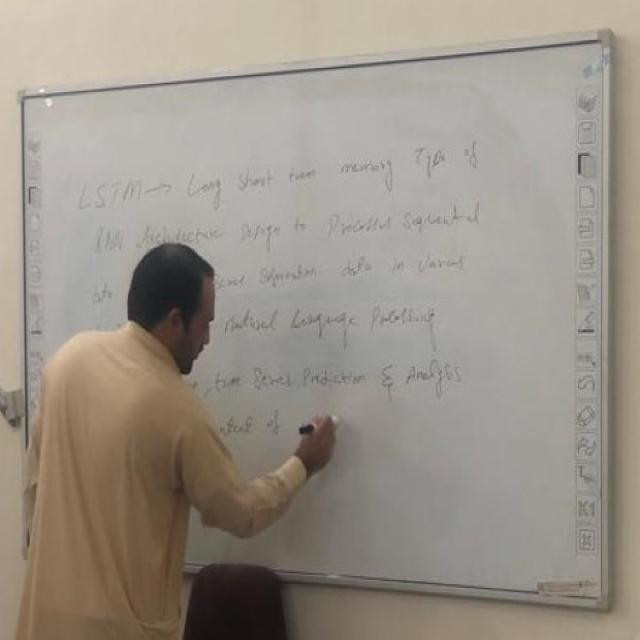Instructor: (41, 225, 251, 640)
White-board: (19, 36, 609, 609)
